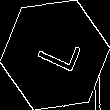L_NW: (28, 31, 82, 79)
